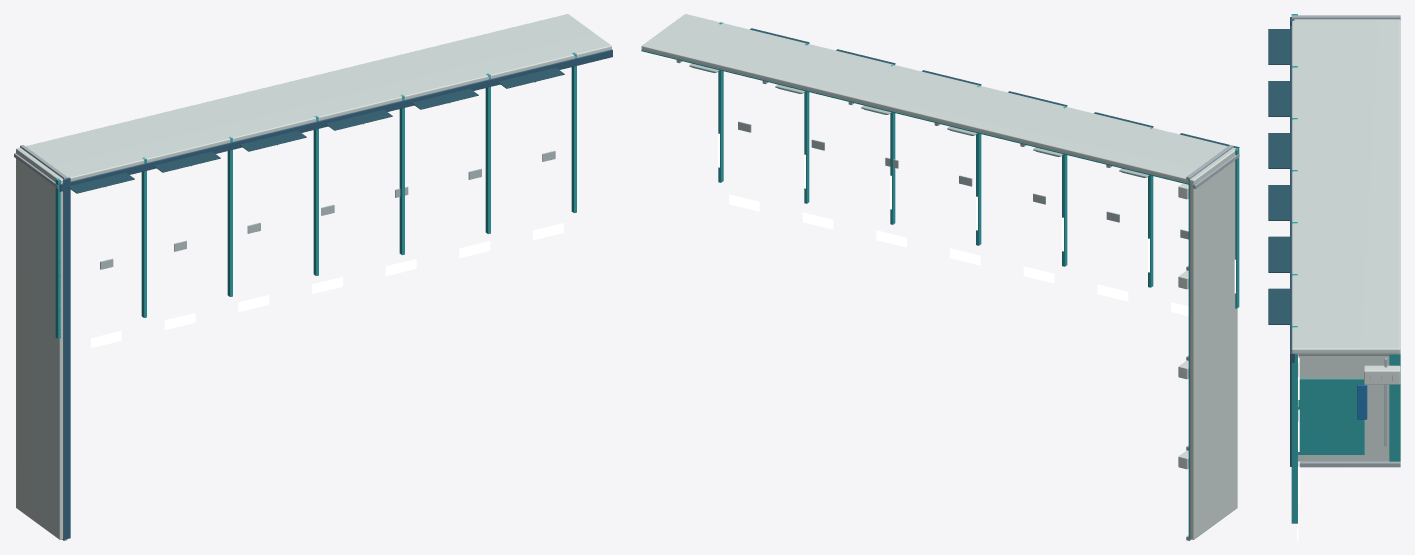
The model's file is hero_clinic_shell.glb.
3 views of the same model, side by side, from view 1: azimuth 30°, elevation 25°; view 2: azimuth 150°, elevation 25°; view 3: azimuth 270°, elevation 25° (orthographic). The views are drawn at different scales.
Visible parts, largest first — view 1: Rear wall structural base, Left wall structural base, Roof edge beam rear, Roof edge beam side, Overhead beam, Overhead beam.001, Overhead beam.003, Overhead beam.005, Overhead beam.006, Overhead beam.002, Overhead beam.004; view 2: Rear wall structural base, Left wall structural base, Rear wall dark plinth, Overhead beam, Left wall dark plinth; view 3: Rear wall structural base, Wall lateral inset, Left wall structural base, Overhead beam.006, Left wall dark plinth, Wall high glazing.004, Wall high glazing.005, Wall high glazing, Wall high glazing.001, Wall high glazing.002, Wall high glazing.003, Linen cabinet body (+7 smaller).
Boxes of the visible parts, bbox=[...] form: Rear wall structural base: bbox=[16, 14, 611, 182]; Left wall structural base: bbox=[16, 148, 63, 539]; Roof edge beam rear: bbox=[59, 49, 612, 191]; Roof edge beam side: bbox=[63, 177, 70, 539]; Overhead beam: bbox=[55, 178, 60, 338]; Overhead beam.001: bbox=[141, 157, 146, 317]; Overhead beam.003: bbox=[313, 116, 318, 275]; Overhead beam.005: bbox=[485, 73, 490, 233]; Overhead beam.006: bbox=[571, 52, 576, 212]; Overhead beam.002: bbox=[227, 137, 232, 296]; Overhead beam.004: bbox=[399, 94, 404, 254]; Rear wall structural base: bbox=[641, 14, 1235, 183]; Left wall structural base: bbox=[1190, 148, 1237, 539]; Rear wall dark plinth: bbox=[641, 50, 1197, 185]; Overhead beam: bbox=[1235, 148, 1239, 308]; Left wall dark plinth: bbox=[1188, 179, 1189, 539]; Rear wall structural base: bbox=[1291, 19, 1400, 354]; Wall lateral inset: bbox=[1298, 379, 1364, 454]; Left wall structural base: bbox=[1298, 356, 1389, 461]; Overhead beam.006: bbox=[1291, 326, 1297, 523]; Left wall dark plinth: bbox=[1389, 356, 1400, 461]; Wall high glazing.004: bbox=[1268, 236, 1289, 272]; Wall high glazing.005: bbox=[1268, 288, 1289, 324]; Wall high glazing: bbox=[1268, 29, 1289, 64]; Wall high glazing.001: bbox=[1268, 81, 1289, 116]; Wall high glazing.002: bbox=[1268, 133, 1289, 168]; Wall high glazing.003: bbox=[1268, 185, 1289, 220]; Linen cabinet body: bbox=[1364, 365, 1400, 384].
Size of the model in its own units: 45.14 by 28.28 by 7.53.
